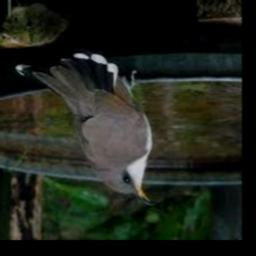Cuckoo: (16, 54, 156, 205)
